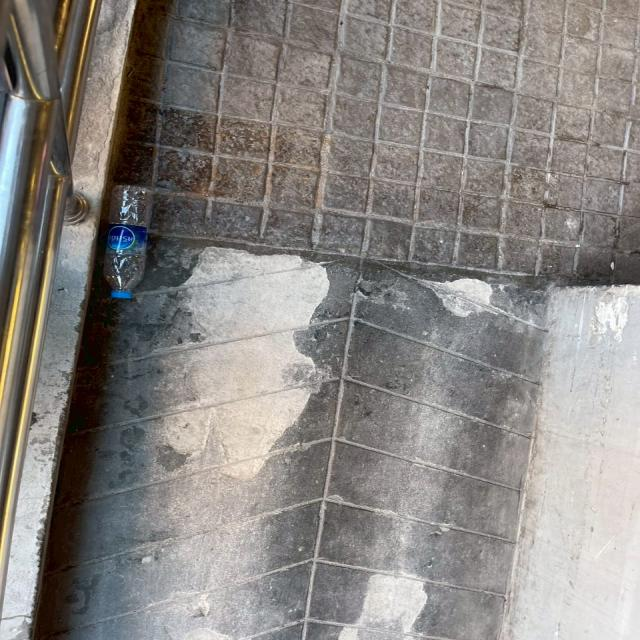plastic bottle: (89, 180, 173, 315)
